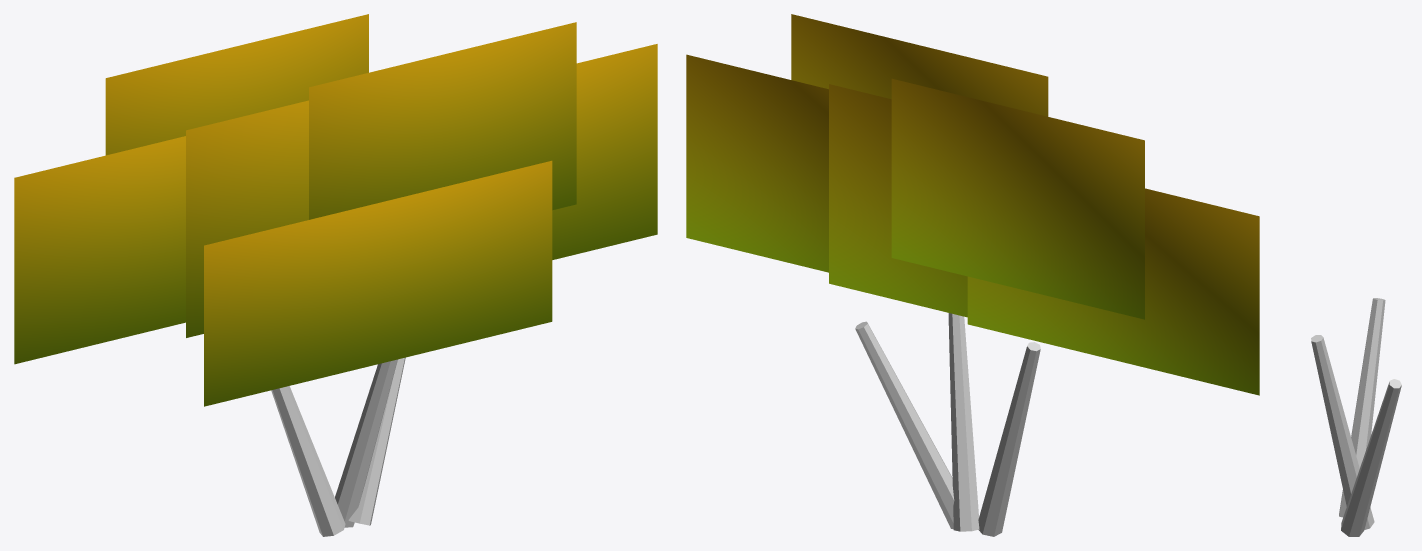
The model's file is shrub_medium_umbrella_canopy.glb.
The picture shows the model from 3 angles, left to right: view 1: azimuth 30°, elevation 25°; view 2: azimuth 150°, elevation 25°; view 3: azimuth 270°, elevation 25°; orthographic projection. The views are drawn at different scales.
Visible parts, largest first — view 1: Shrub_Umbrella_Foliage_6BillboardLobes, Shrub_Trunk_Cluster; view 2: Shrub_Umbrella_Foliage_6BillboardLobes, Shrub_Trunk_Cluster; view 3: Shrub_Trunk_Cluster.
Part boxes in pixels (box(x1,y1,x2,y2)): Shrub_Umbrella_Foliage_6BillboardLobes: box(14, 14, 657, 406); Shrub_Trunk_Cluster: box(271, 357, 405, 536); Shrub_Umbrella_Foliage_6BillboardLobes: box(686, 14, 1259, 395); Shrub_Trunk_Cluster: box(855, 313, 1040, 536); Shrub_Trunk_Cluster: box(1311, 298, 1401, 536).
Bounding box in the file's own units: 3.06 × 2.27 × 0.58.
